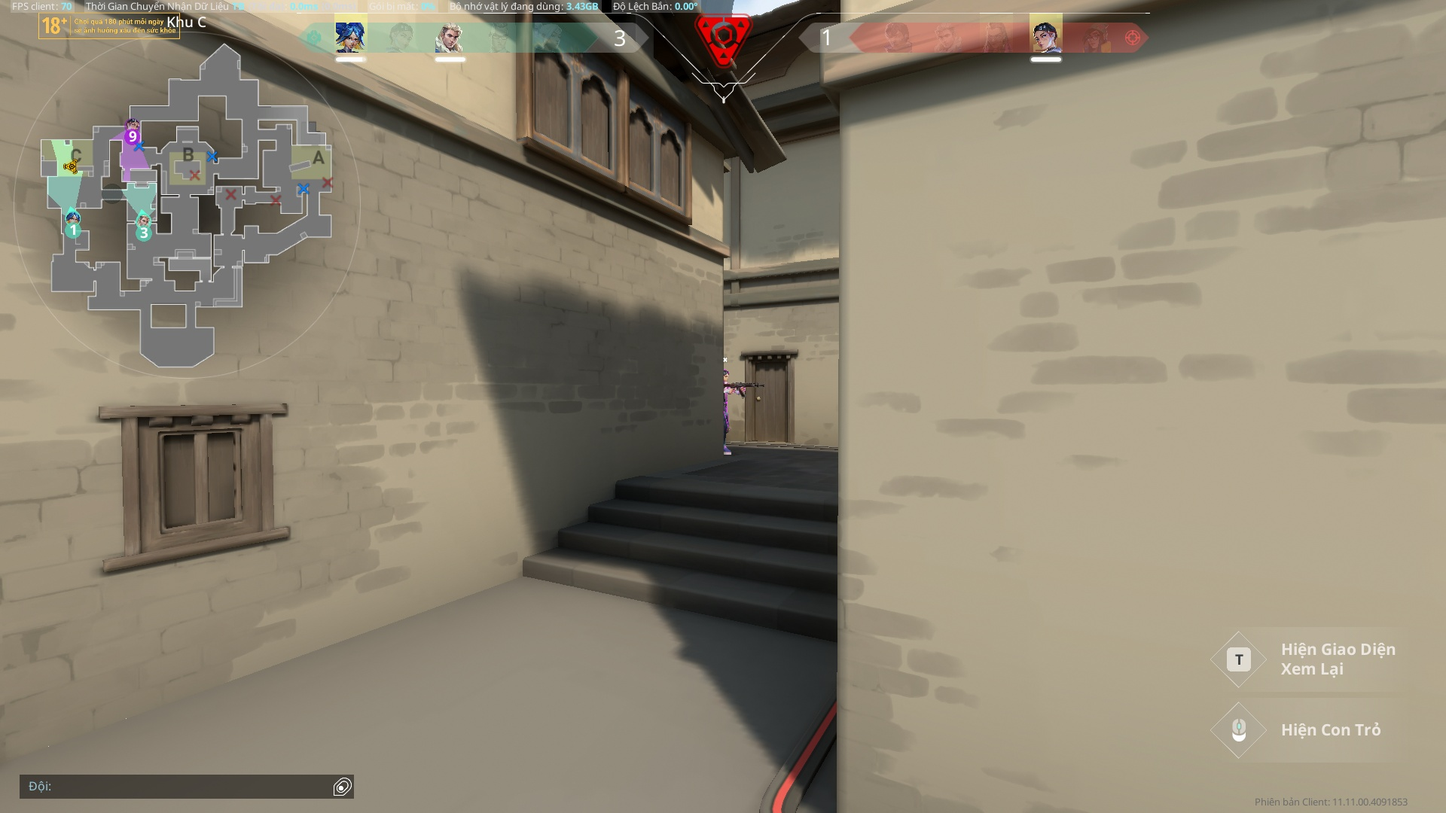body: (723, 382, 728, 406)
head: (723, 368, 730, 380)
